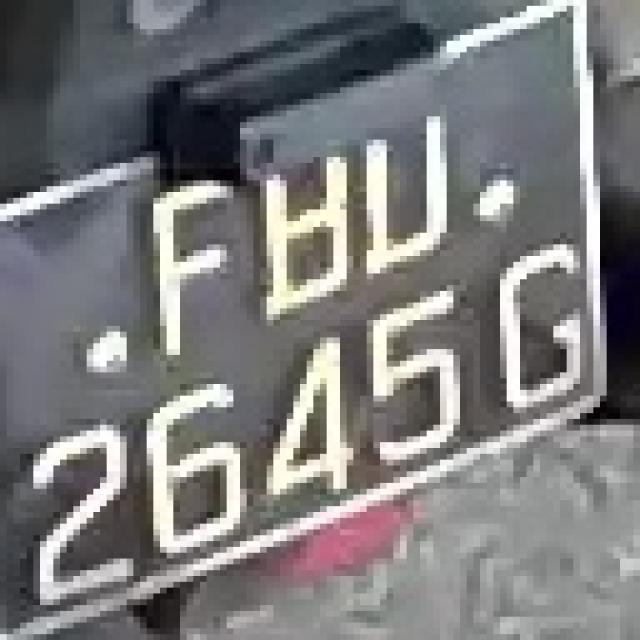2: (7, 390, 126, 599)
4: (253, 332, 387, 518)
5: (347, 279, 473, 460)
6: (140, 384, 260, 576)
B: (227, 116, 353, 314)
D: (354, 99, 474, 279)
F: (134, 169, 234, 384)
G: (480, 221, 593, 466)
